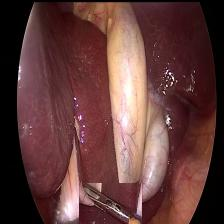Grasper: (78, 182, 141, 224)
